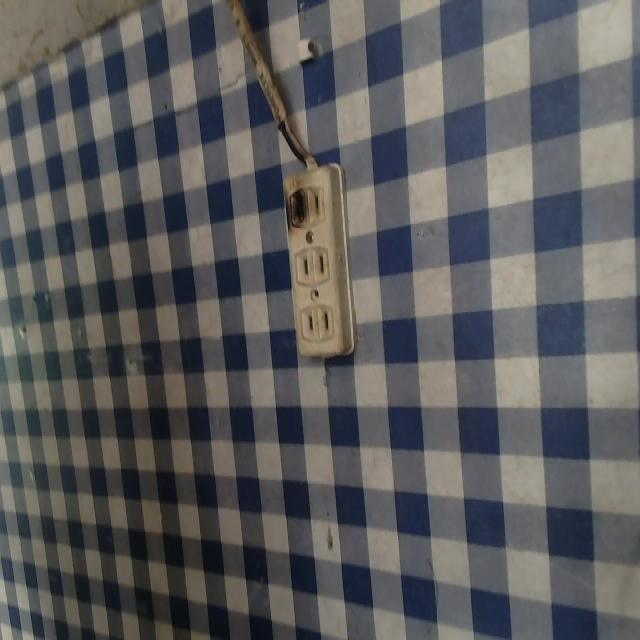-: (280, 183, 309, 229)
